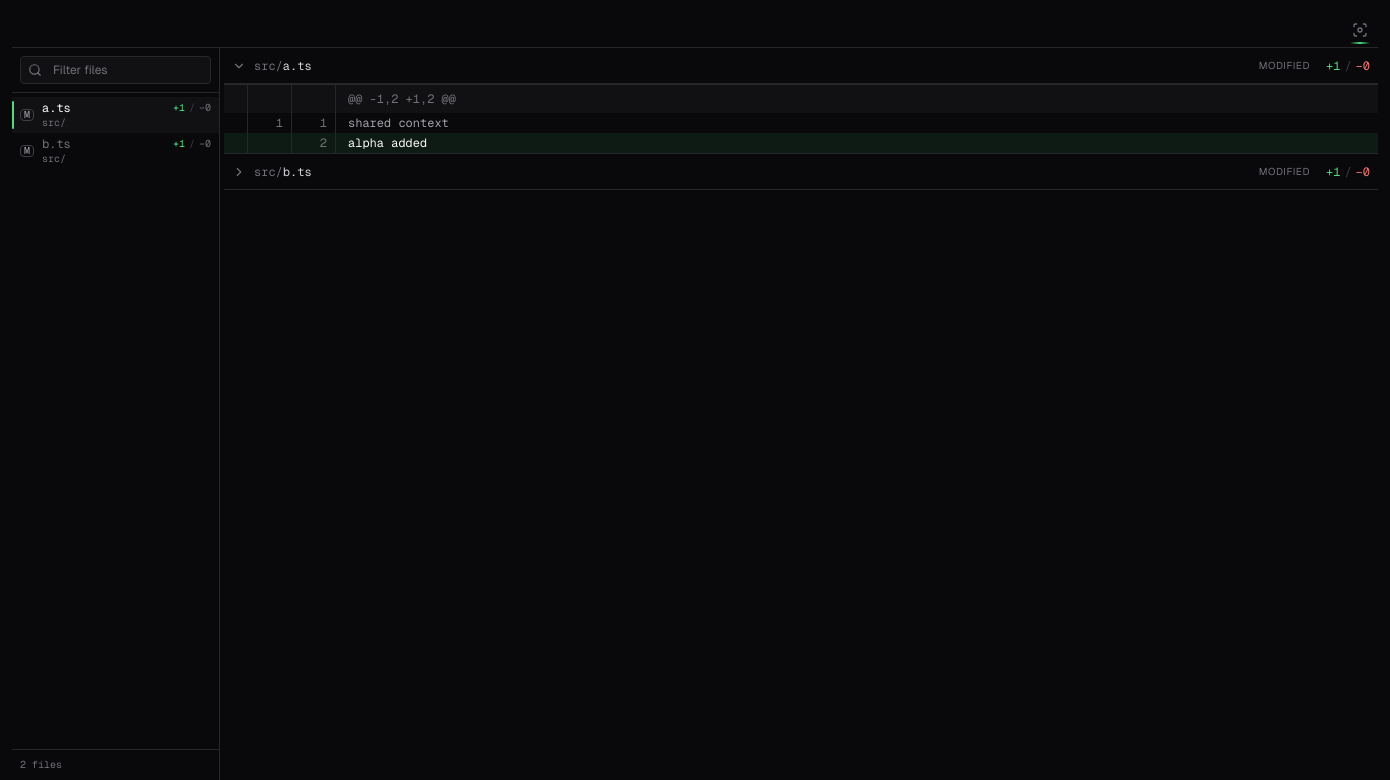
Scenario: DiffView › focus mode can open every file and return to one at a time
Click the button named "Show all files".
click(1360, 30)  # box [1346,16,1374,44]
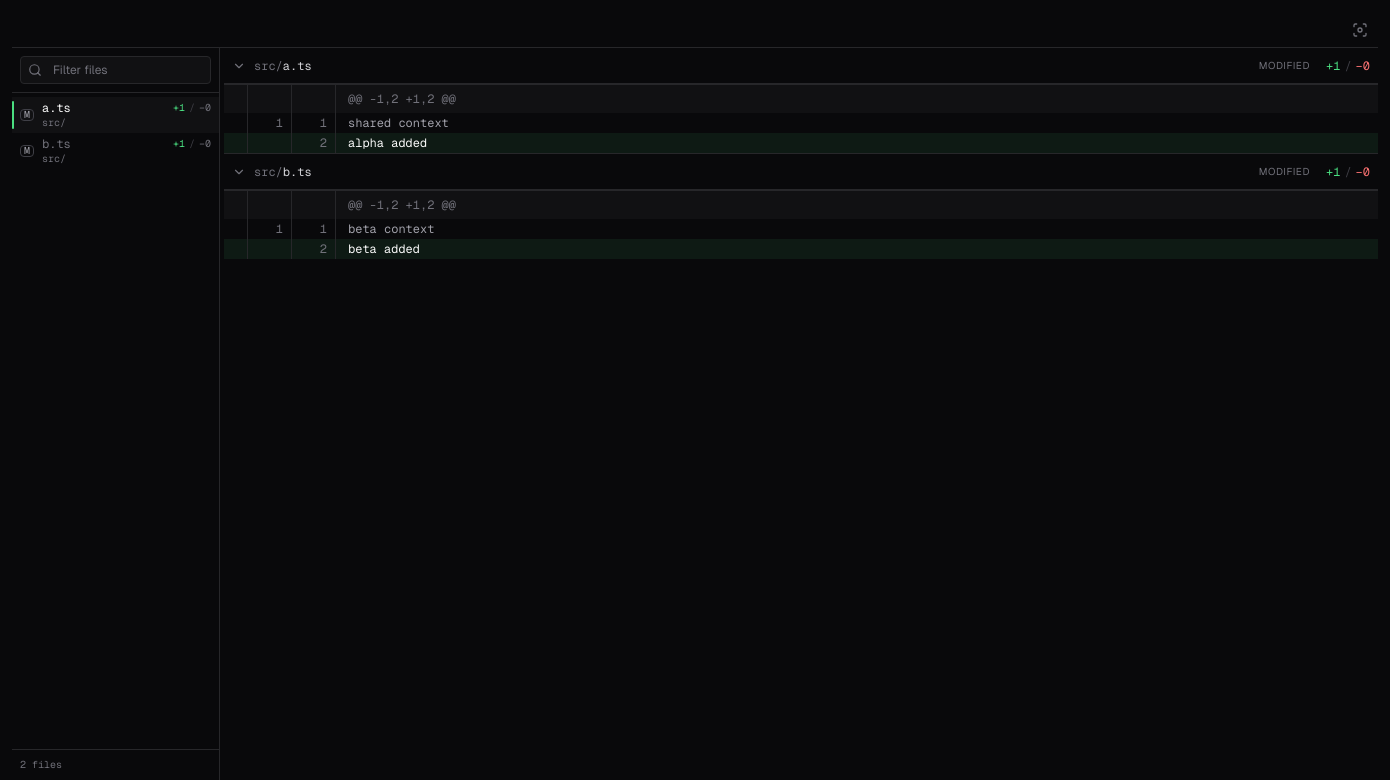
Expected: the text "alpha added" is shown, [348,135,427,151]
Expected: the text "beta added" is shown, [348,241,420,257]
Click the button named "Show one file at a time".
click(1360, 30)  # box [1346,16,1374,44]
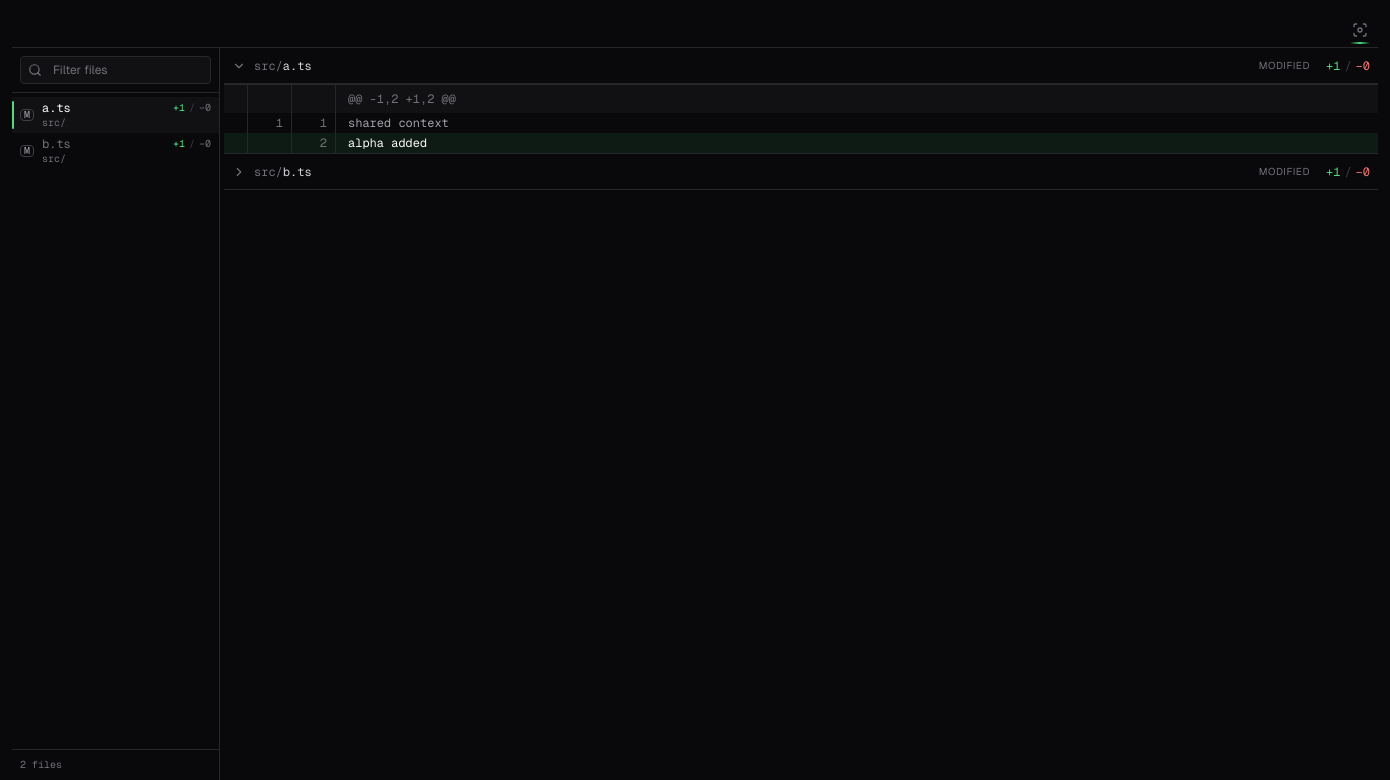
Expected: the text "alpha added" is shown, [348,135,427,151]
Expected: the text "beta added" is gone
